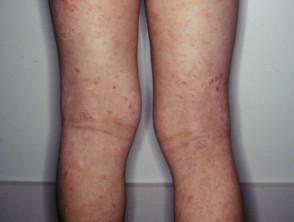Eczema: (78, 108, 102, 127), (168, 72, 186, 89), (190, 158, 208, 175), (194, 37, 211, 54), (198, 61, 218, 75), (193, 134, 207, 153), (121, 95, 133, 115), (184, 192, 200, 207), (67, 23, 82, 38), (223, 7, 238, 22), (176, 134, 191, 149), (217, 166, 233, 180), (63, 0, 80, 13), (56, 30, 71, 44), (74, 63, 89, 77), (114, 13, 129, 27), (73, 161, 83, 182), (158, 43, 173, 57), (81, 201, 96, 214), (160, 131, 173, 146), (230, 188, 242, 204), (93, 73, 104, 90), (217, 67, 228, 84), (176, 171, 187, 188), (181, 56, 195, 69), (173, 152, 187, 165), (201, 7, 213, 22), (155, 66, 165, 84), (112, 72, 128, 83), (155, 29, 171, 40), (111, 114, 123, 128), (115, 147, 129, 159), (187, 93, 201, 105), (59, 150, 70, 165), (63, 186, 78, 197), (178, 210, 191, 222), (214, 129, 226, 142), (79, 134, 93, 145), (216, 99, 227, 113), (197, 113, 211, 124), (215, 149, 229, 160), (78, 41, 88, 56), (172, 15, 184, 27), (93, 186, 104, 199), (175, 3, 188, 14), (174, 30, 187, 41), (214, 28, 225, 41), (111, 182, 121, 196), (152, 10, 162, 24), (210, 80, 220, 94), (101, 169, 112, 181), (158, 96, 169, 108), (64, 137, 77, 147), (109, 200, 119, 213), (207, 186, 217, 199), (225, 211, 239, 220), (154, 115, 165, 126), (112, 79, 119, 96), (101, 206, 110, 219), (215, 114, 224, 127), (105, 106, 115, 117), (99, 23, 110, 33), (112, 41, 121, 53), (175, 110, 187, 119), (220, 200, 232, 209), (127, 40, 134, 54), (61, 166, 67, 181), (63, 204, 73, 213), (192, 177, 199, 189), (201, 204, 209, 214), (225, 33, 229, 50), (86, 9, 95, 16), (203, 179, 216, 183), (97, 6, 103, 11), (216, 0, 222, 3), (180, 90, 181, 101)
